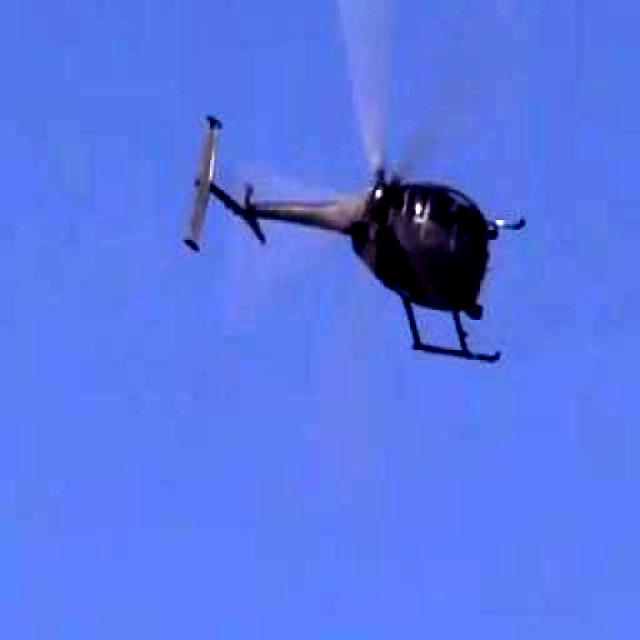drone: (135, 0, 640, 492)
